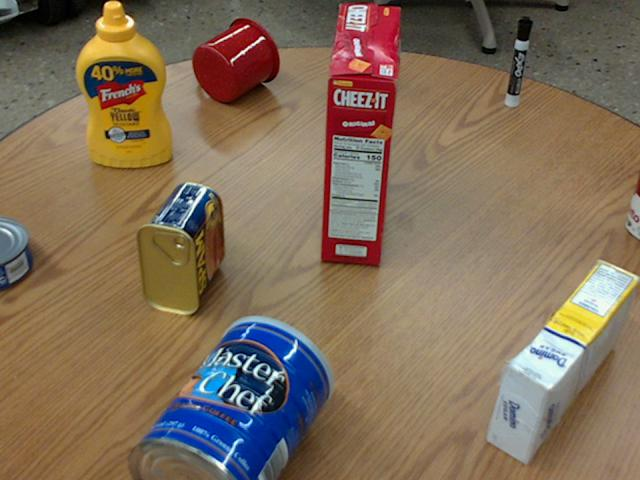cracker_box: (317, 4, 396, 264)
gelatin_box: (349, 23, 374, 101)
large_marker: (504, 17, 530, 105)
master_chef_can: (128, 316, 332, 479)
mug: (190, 16, 278, 102)
mustard_bottle: (75, 1, 170, 166)
potted_meat_can: (134, 181, 221, 314)
sugar_box: (486, 260, 637, 465)
tomato_soup_can: (622, 158, 639, 241)
tuna_fish_can: (0, 215, 31, 288)
